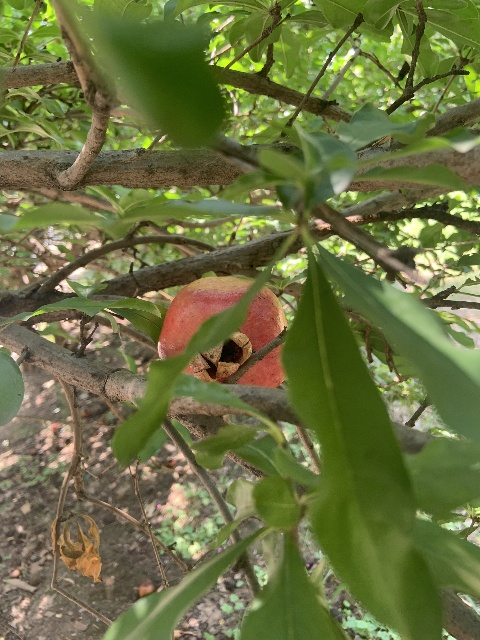ripe: (157, 276, 290, 387)
